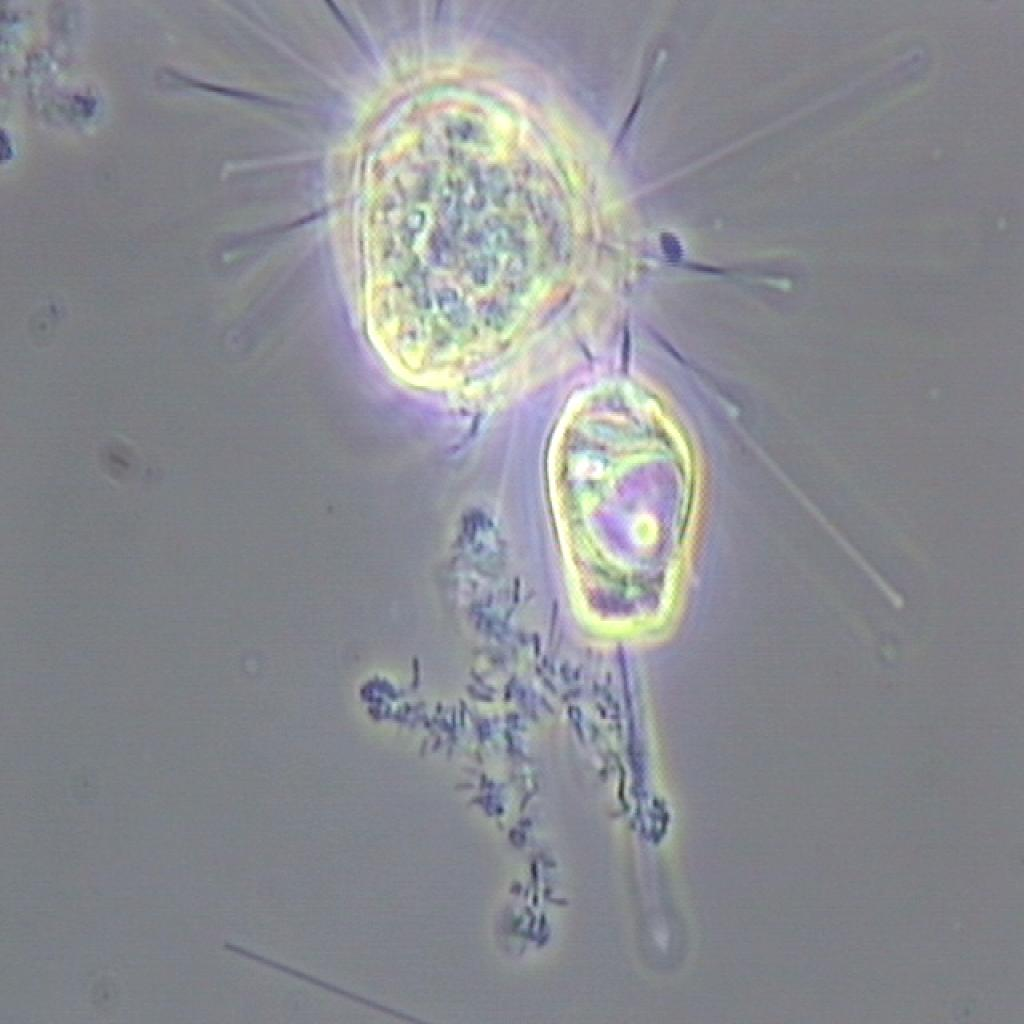Suctorida: (192, 24, 795, 410)
